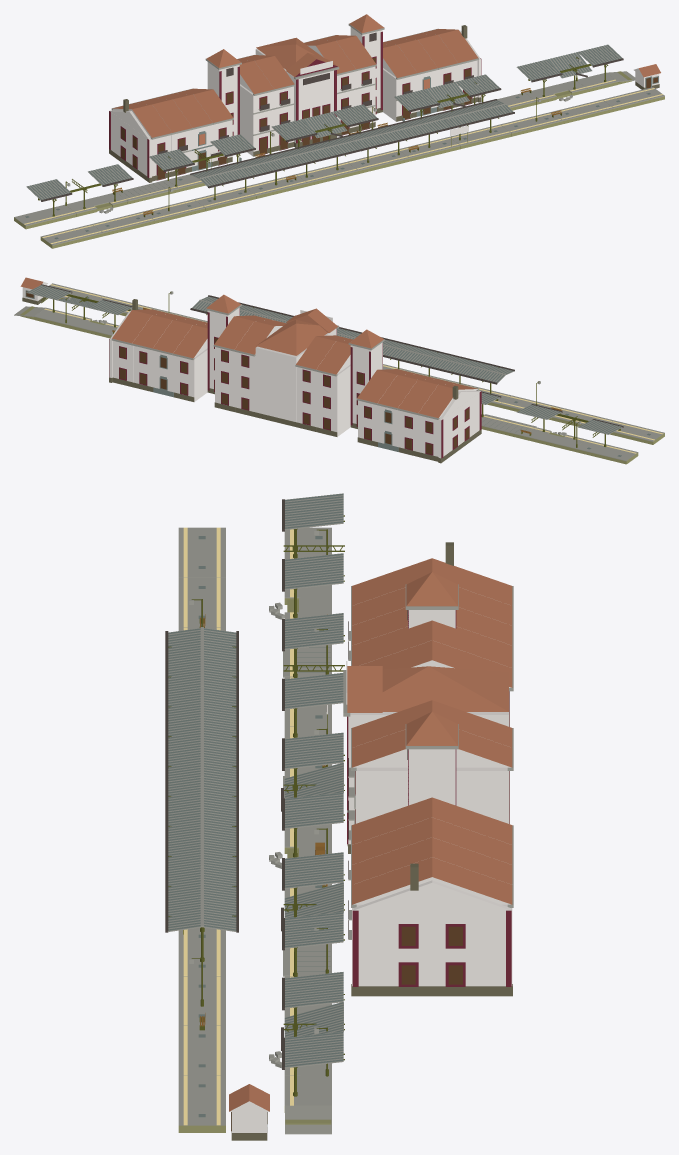
The model's file is SM_EstacionCastellon_v1_LOD0.fbx.
The picture shows the model from 3 angles, top to bottom: view 1: azimuth 30°, elevation 25°; view 2: azimuth 150°, elevation 25°; view 3: azimuth 270°, elevation 25°; orthographic projection. The views are drawn at different scales.
Parts seen in each view (by area): view 1: SM_bloques.estacion_castellon_v1_LOD0; view 2: SM_bloques.estacion_castellon_v1_LOD0; view 3: SM_bloques.estacion_castellon_v1_LOD0.
Part boxes in pixels (x1,y1,x2,y2): SM_bloques.estacion_castellon_v1_LOD0: (14,14,664,248); SM_bloques.estacion_castellon_v1_LOD0: (14,277,664,464); SM_bloques.estacion_castellon_v1_LOD0: (165,493,513,1140).
Bounding box in the file's own units: 122 × 18.11 × 29.52.
